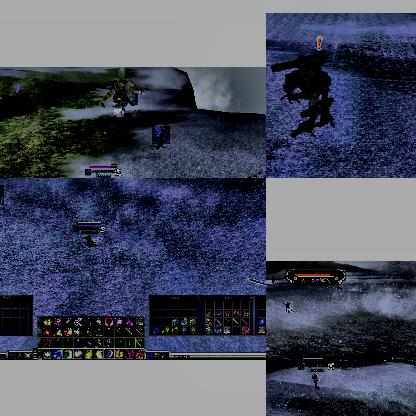caliana: (152, 126, 170, 144), (285, 301, 293, 313), (12, 84, 20, 94), (114, 109, 124, 117), (0, 185, 4, 205), (132, 93, 138, 105), (139, 85, 145, 95), (271, 276, 275, 284)
